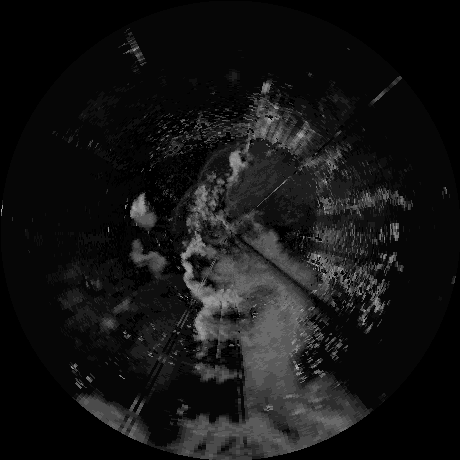frontgust: (200, 142, 247, 179), (175, 185, 197, 216)
